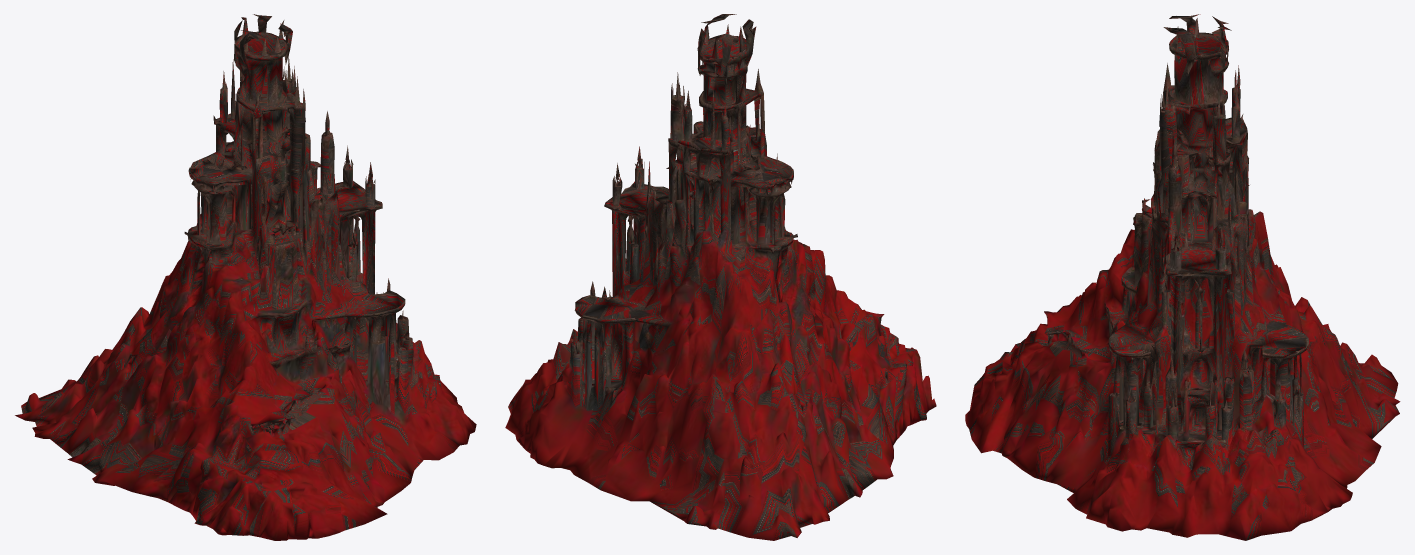
The model's file is Crimson_Spire_Citadel.glb.
3 renders of one model, left to right at view 1: azimuth 30°, elevation 25°; view 2: azimuth 150°, elevation 25°; view 3: azimuth 270°, elevation 25°, orthographic. The views are drawn at different scales.
Parts seen in each view (by area): view 1: Crimson_Spire_Citadel; view 2: Crimson_Spire_Citadel; view 3: Crimson_Spire_Citadel.
Part boxes in pixels (<box>): Crimson_Spire_Citadel: <box>15,14,476,540</box>; Crimson_Spire_Citadel: <box>505,14,936,540</box>; Crimson_Spire_Citadel: <box>965,14,1400,540</box>.
Size of the model in its own units: 1.74 by 1.9 by 1.78.
1 material, 1 textured.
